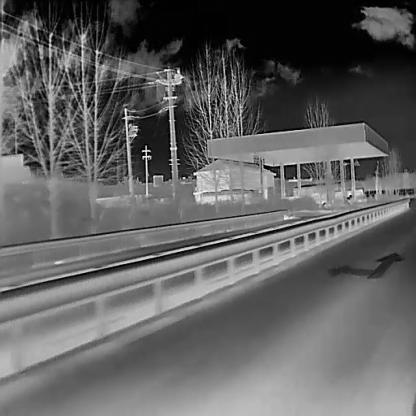car: (199, 188, 255, 206), (333, 186, 366, 202)
